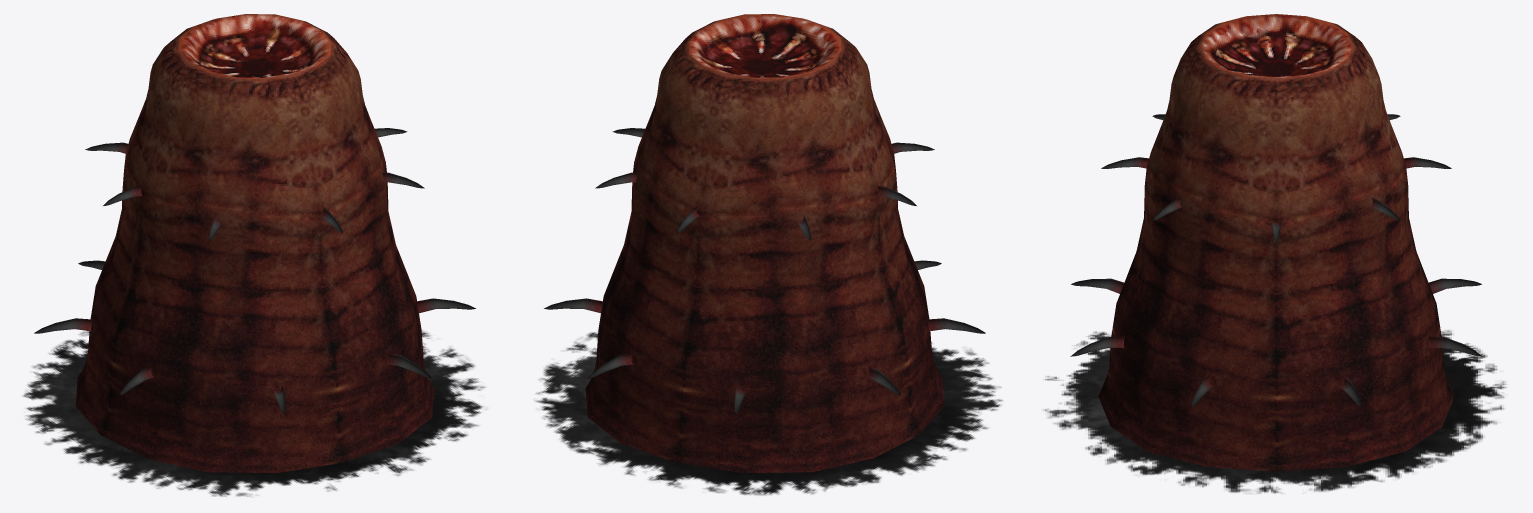
Rendered from barnacle.glb.
The picture shows the model from 3 angles, left to right: view 1: azimuth 30°, elevation 25°; view 2: azimuth 150°, elevation 25°; view 3: azimuth 270°, elevation 25°; orthographic projection.
Visible parts, largest first — view 1: barnacle; view 2: barnacle; view 3: barnacle.
Part boxes in pixels (box(x1,y1,x2,y2)): barnacle: box(23, 14, 485, 496); barnacle: box(535, 14, 1002, 495); barnacle: box(1045, 14, 1506, 493).
Size of the model in its own units: 0.6995 by 0.5587 by 0.6995.
Materials: 1 (1 with a texture image).
